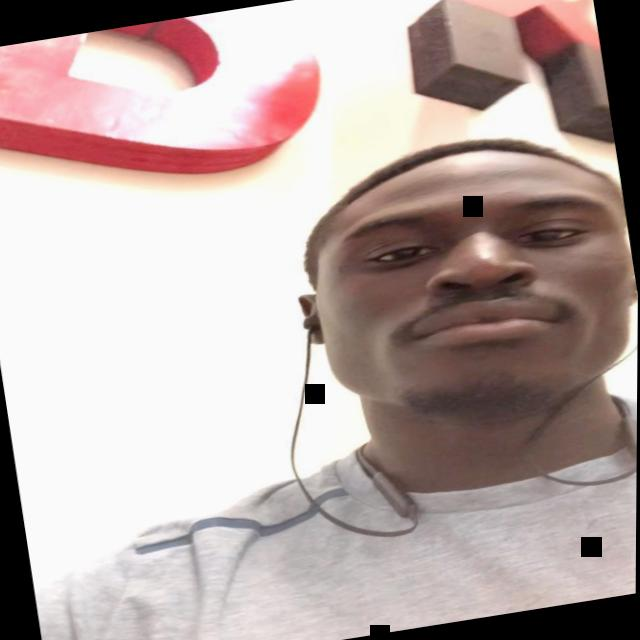NO-Mask: (293, 152, 639, 443)
